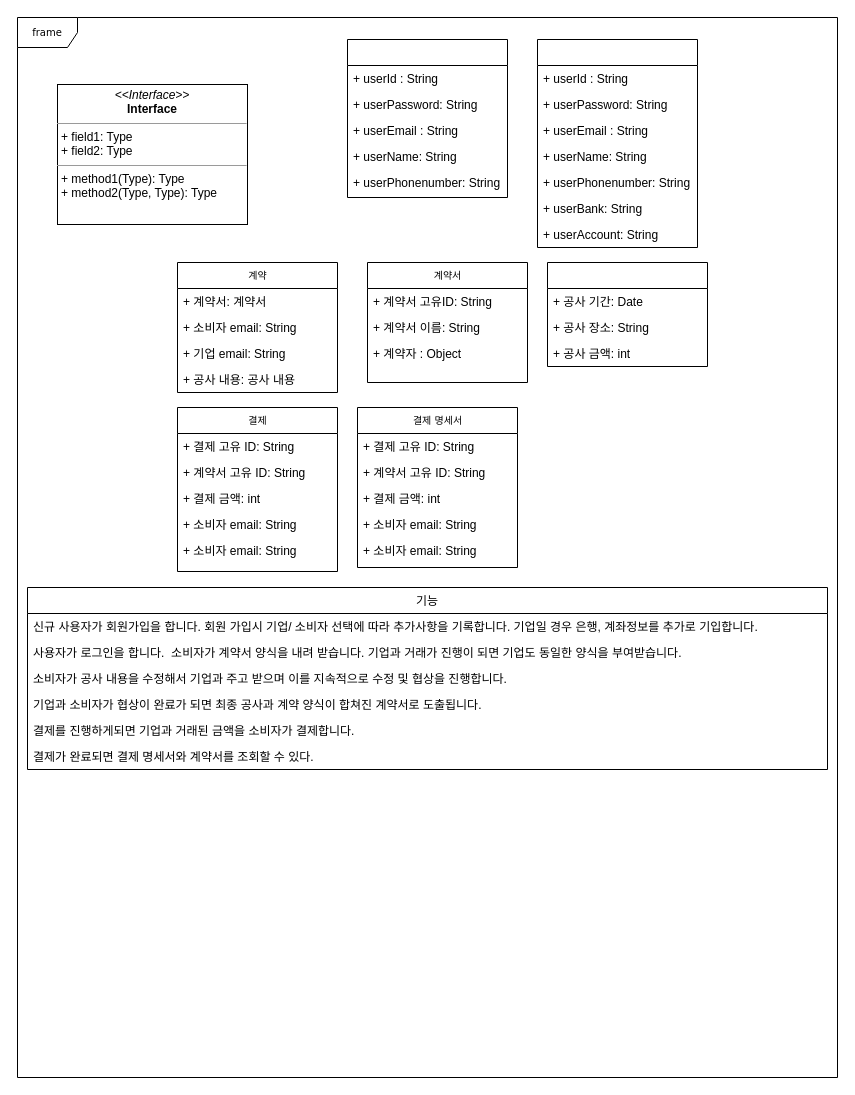
Some shapes in this 855 by 1095 pixel diagram are drawn without their labels. The shapes that lost their labels are listed below. From the top down, each one's box as (x1, y1, x2, y2) in pixels, then its label:
(346, 38, 508, 198): Customer
(536, 38, 698, 248): Company
(546, 262, 708, 366): 공사 내용
